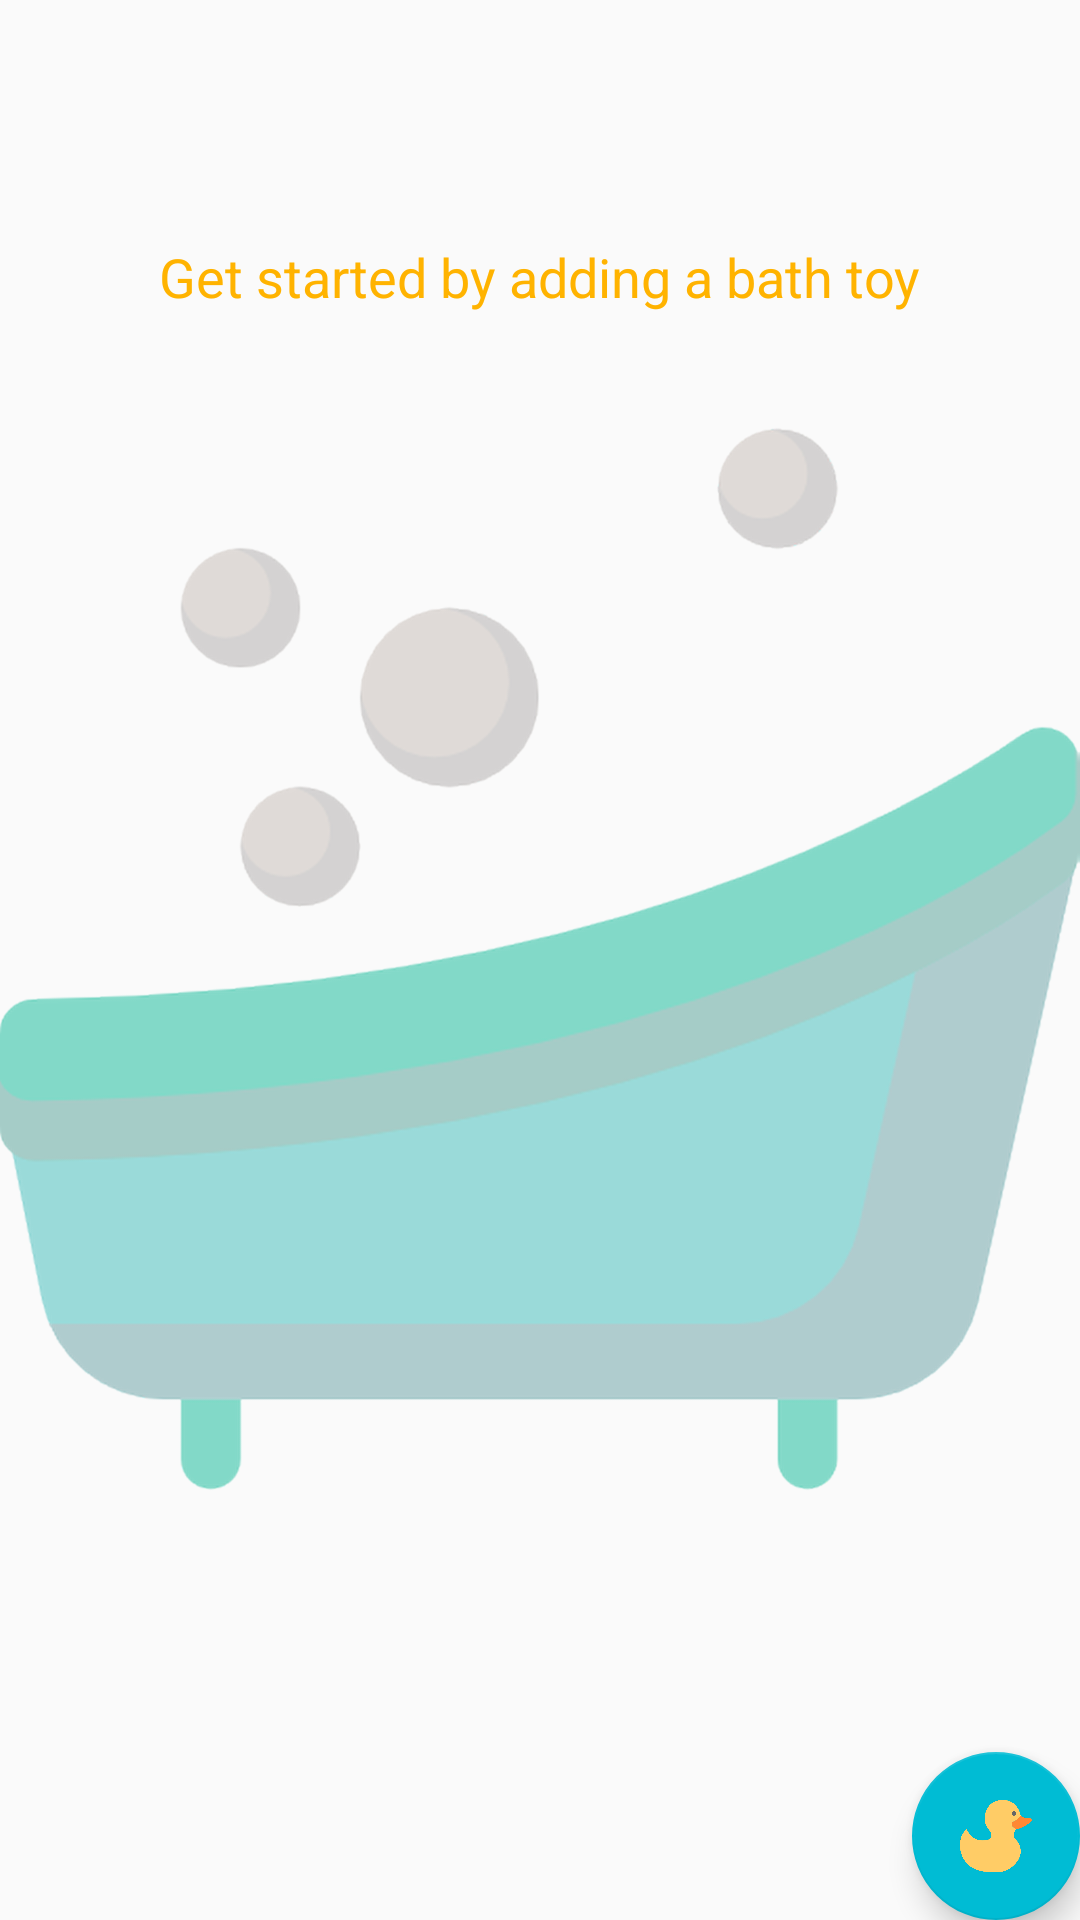

Icon bounding boxes for this 1080 × 1920 phone screenshot, format detection(x1, y1, x2, y2):
duck: detection(912, 1752, 1080, 1920)
